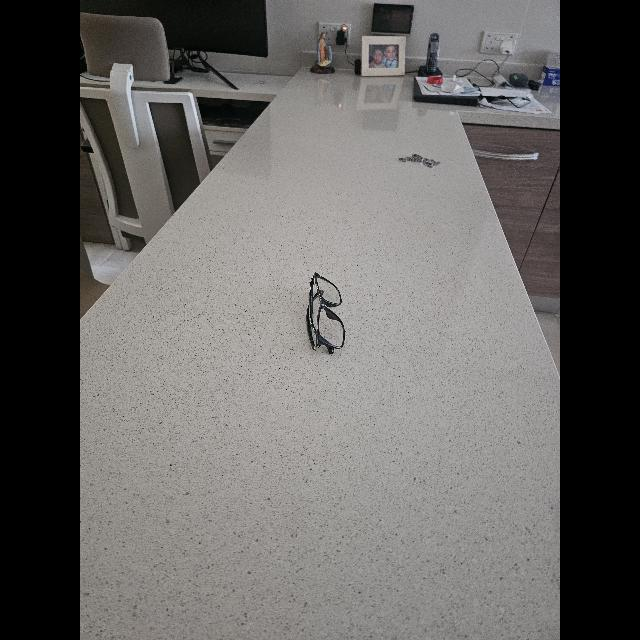glasses: (307, 272, 345, 354)
